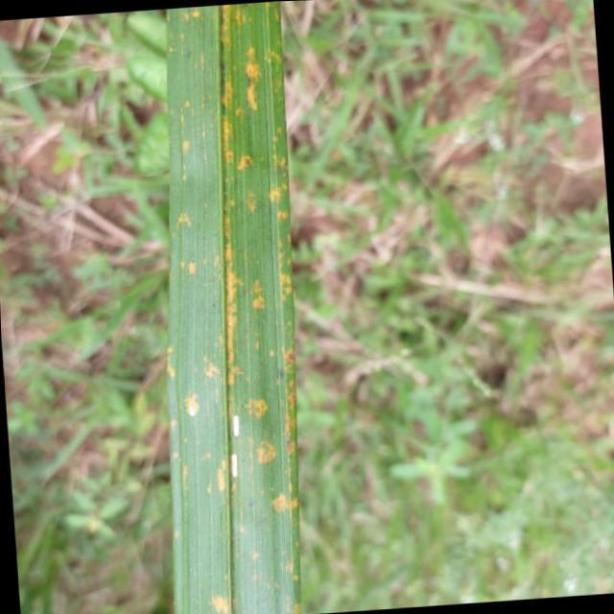Kalium: (161, 1, 292, 614)
